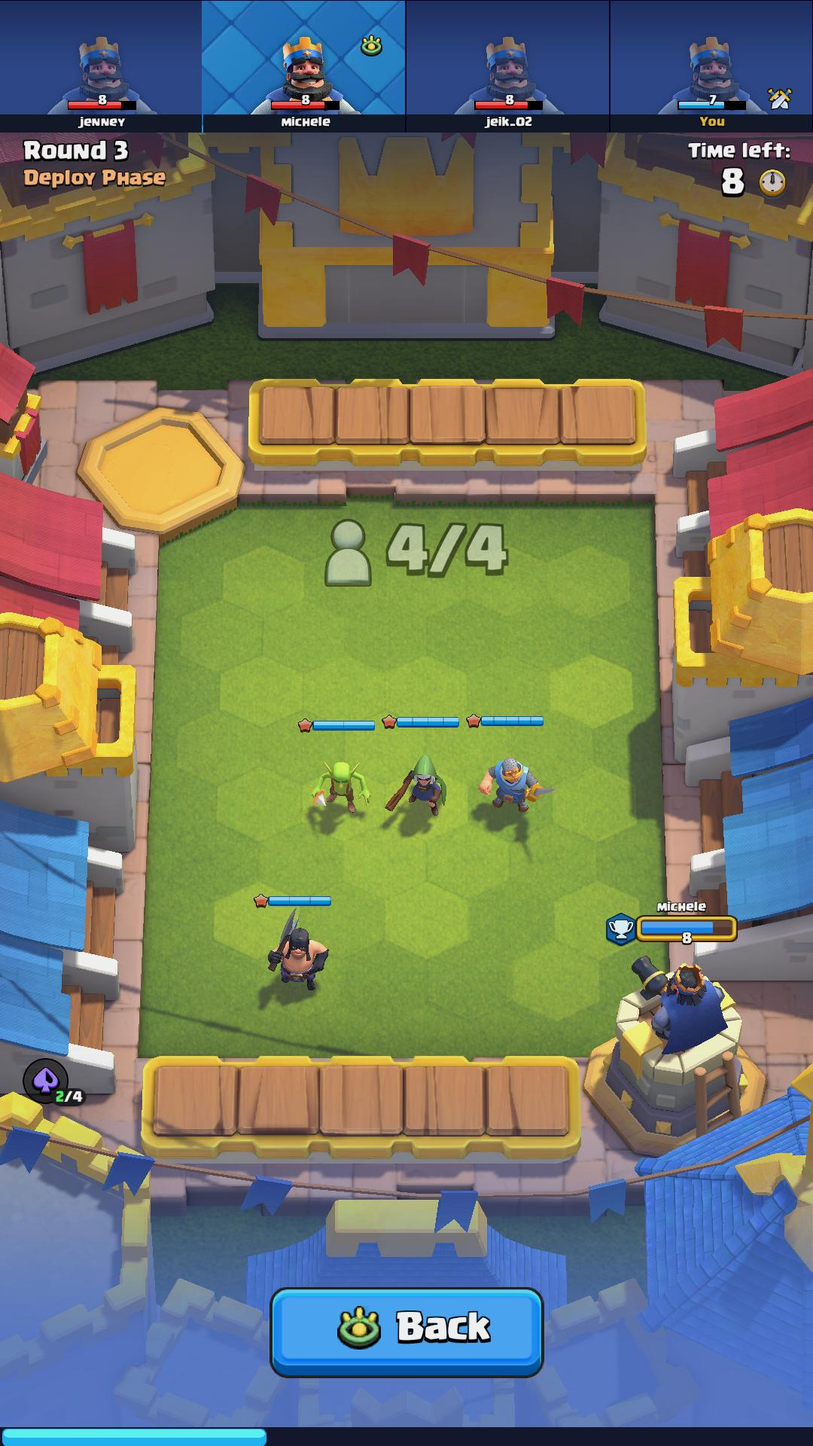bandit: (380, 747, 462, 828)
executioner: (255, 908, 331, 992)
goblin: (302, 748, 375, 823)
knight: (468, 748, 553, 826)
